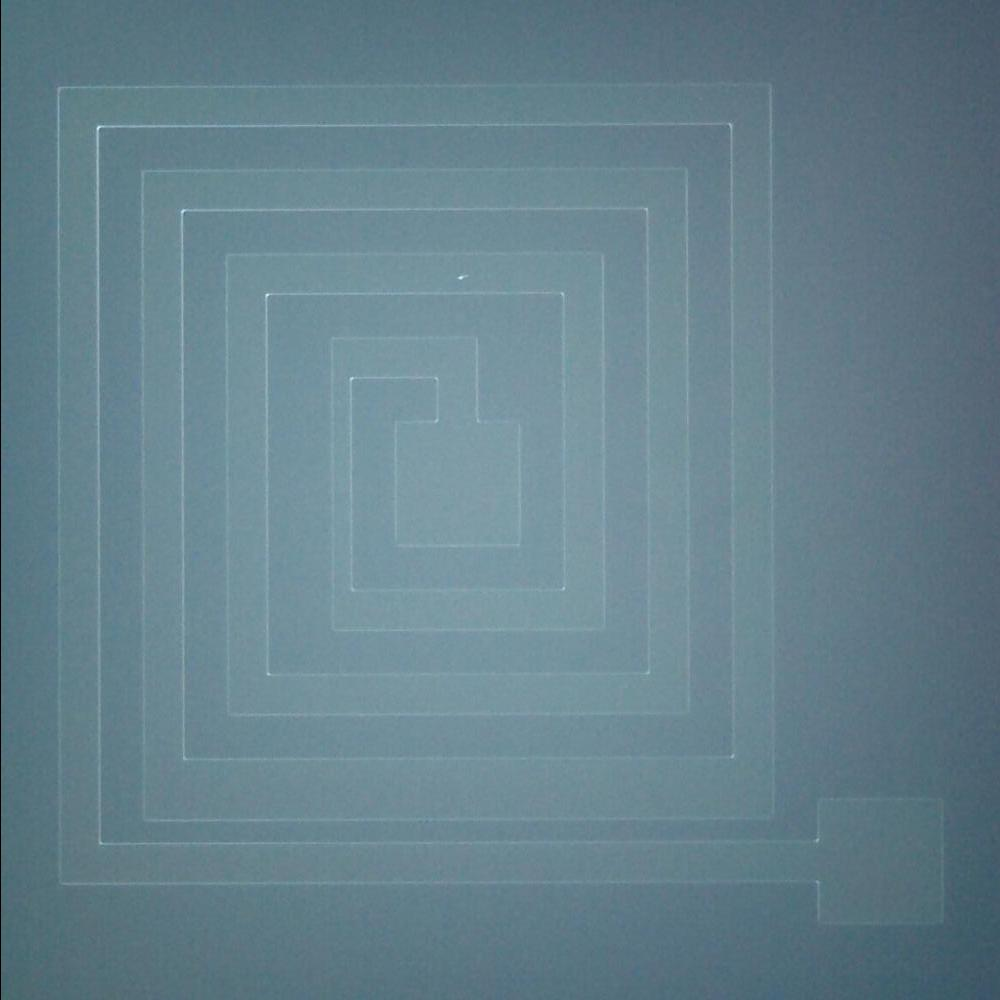fat circuit: (127, 747, 780, 825)
thin circuit: (316, 326, 362, 638)
